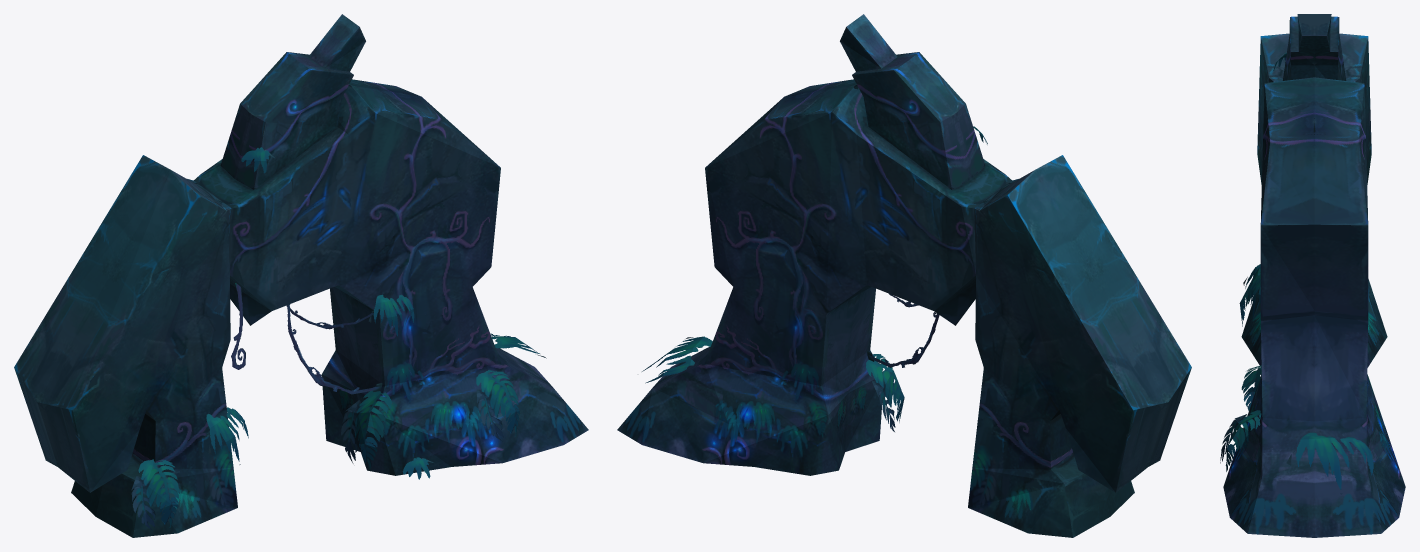
Rendered from h5_rongdong.FBX.
3 views of the same model, side by side, from view 1: azimuth 30°, elevation 25°; view 2: azimuth 150°, elevation 25°; view 3: azimuth 270°, elevation 25° (orthographic). The views are drawn at different scales.
Parts seen in each view (by area): view 1: h5_rongdong; view 2: h5_rongdong; view 3: h5_rongdong.
Boxes of the visible parts, <box> form: h5_rongdong: <box>14,14,588,537</box>; h5_rongdong: <box>617,14,1191,537</box>; h5_rongdong: <box>1220,14,1405,537</box>.
Size of the model in its own units: 18.47 by 14.68 by 5.79.
Materials: 1 (1 with a texture image).
